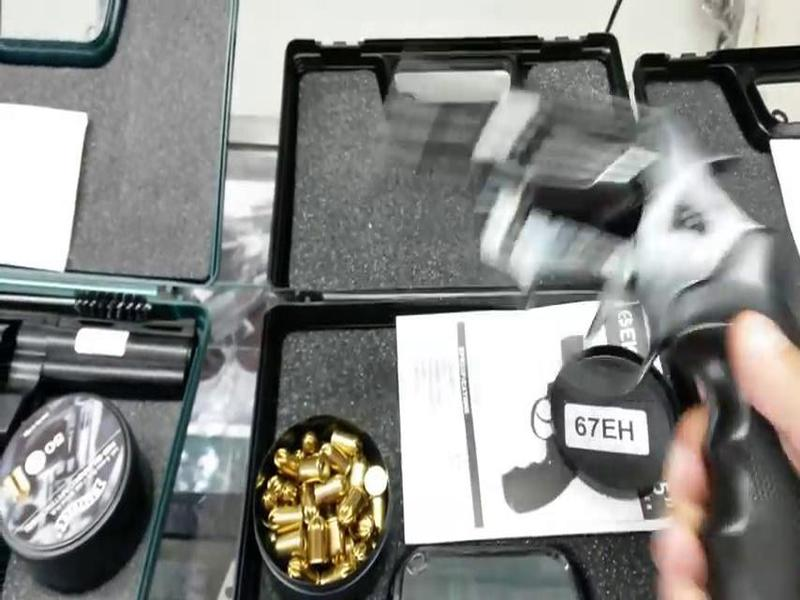Revolver: (370, 45, 793, 569)
